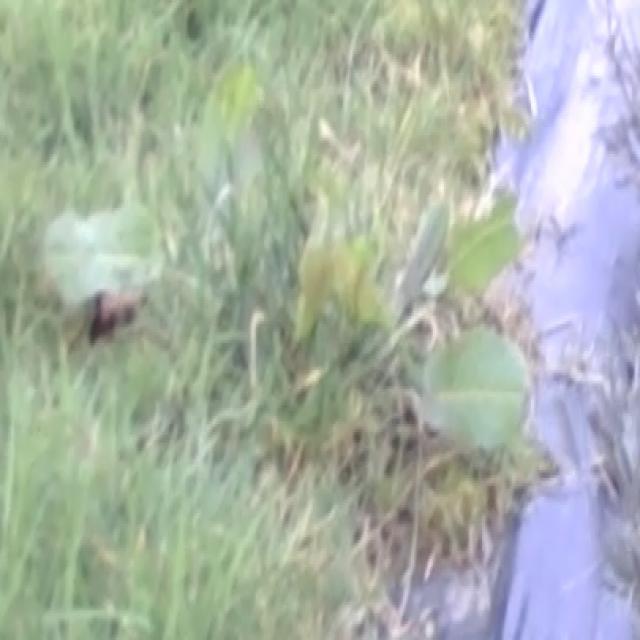organic waste: (225, 112, 568, 467), (28, 196, 224, 374)
